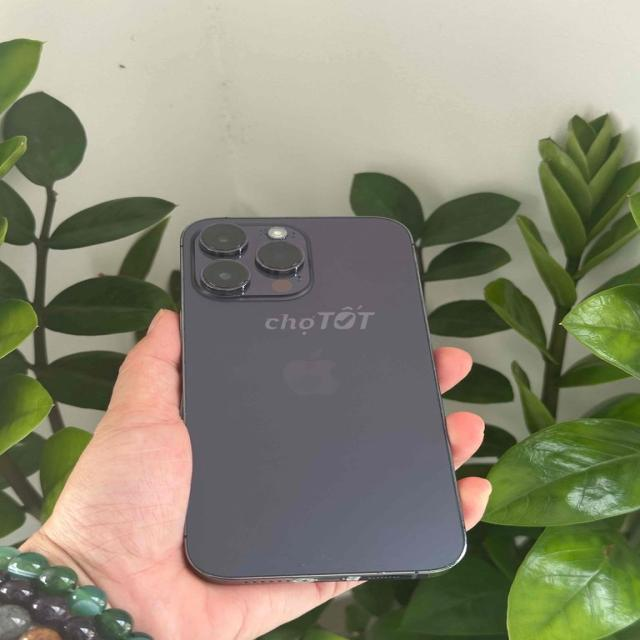physical_damage: (373, 566, 393, 576)
scratch: (299, 548, 334, 568)
